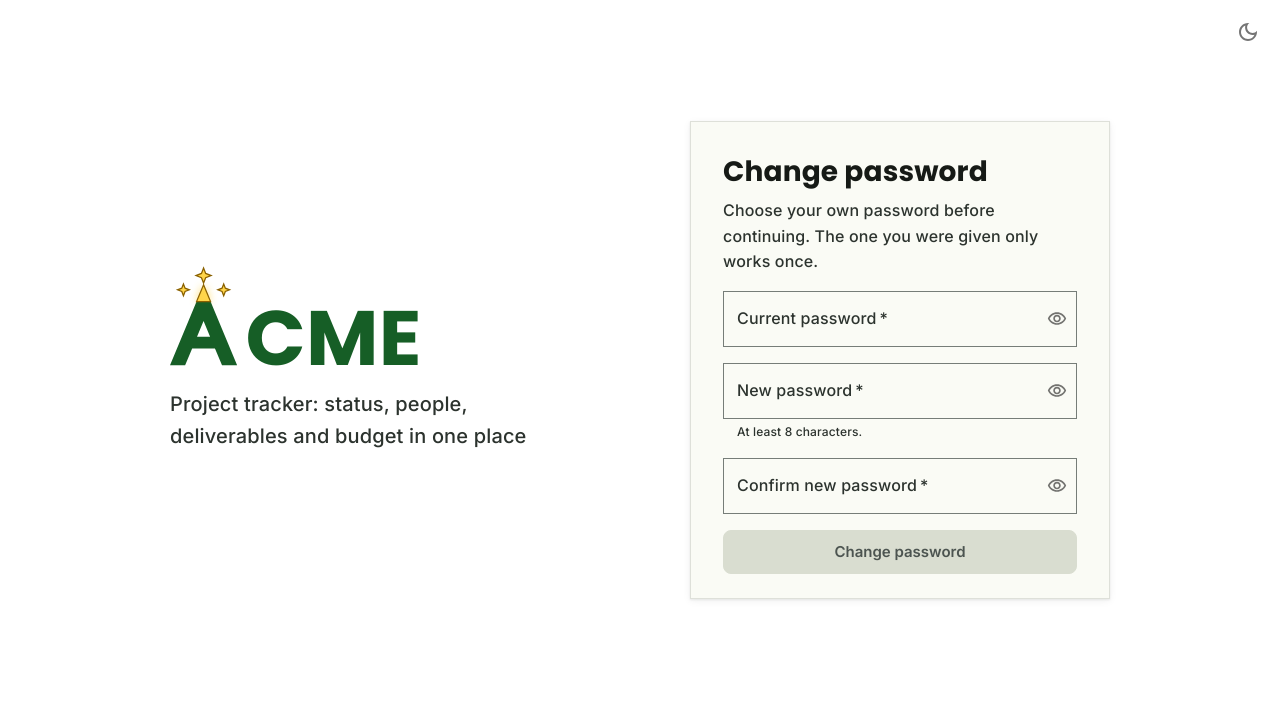
it: ChangePasswordPage › while saving › disables every field and the button, which says it is saving
This screenshot has width=1280, height=720.
In the password field labelled "Current password *": (877, 319) [723,291,1031,347], type "Generated-123"
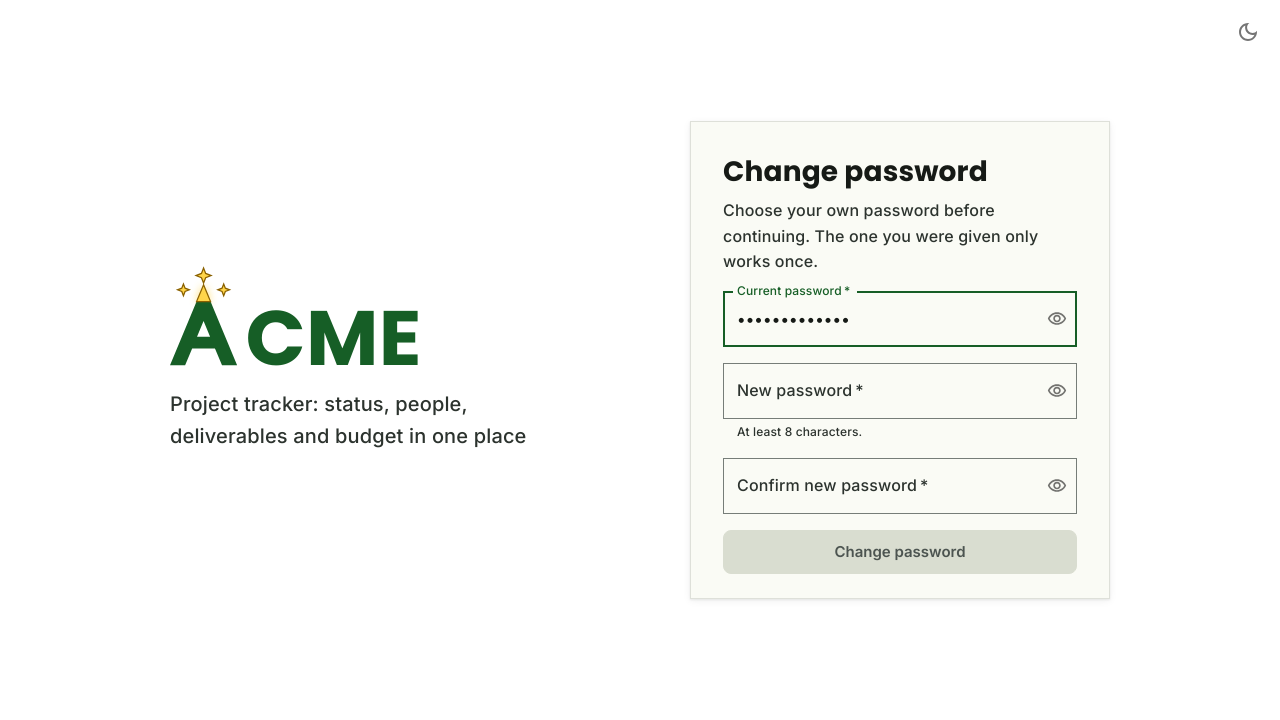
In the password field labelled "New password *": (877, 391) [723,363,1031,419], type "my-new-password"
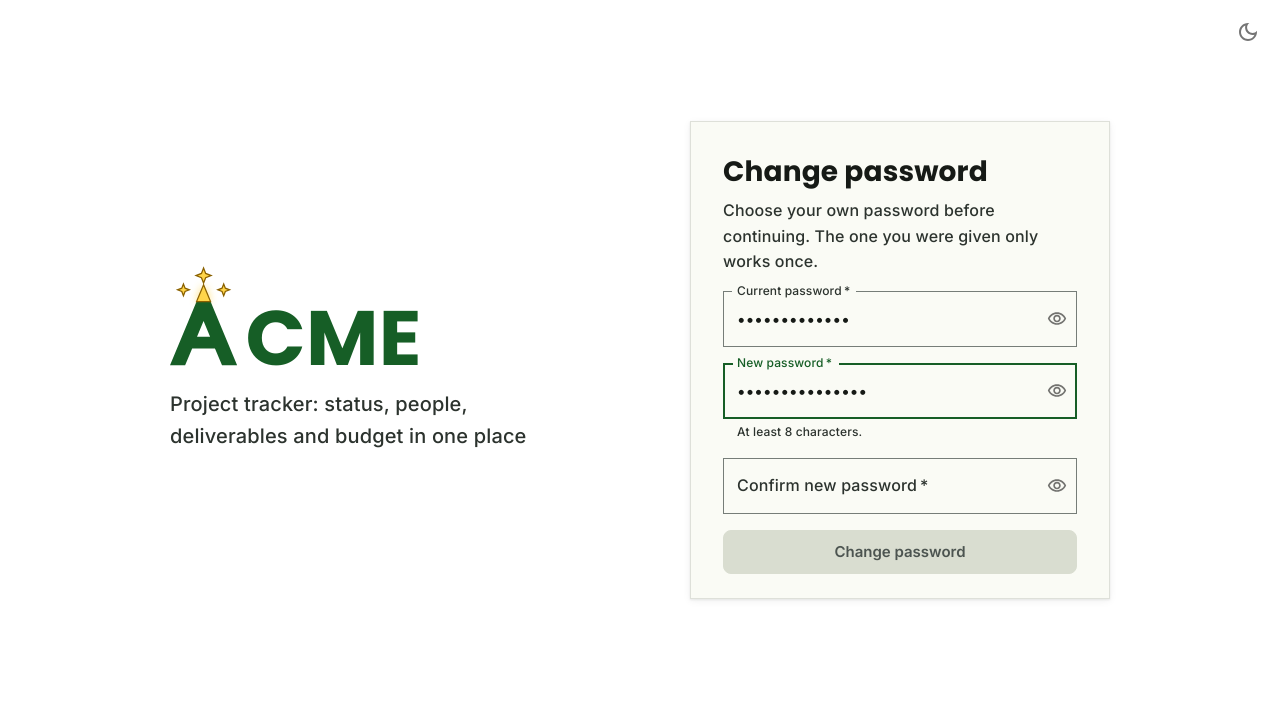
In the password field labelled "Confirm new password *": (877, 486) [723,458,1031,514], type "my-new-password"
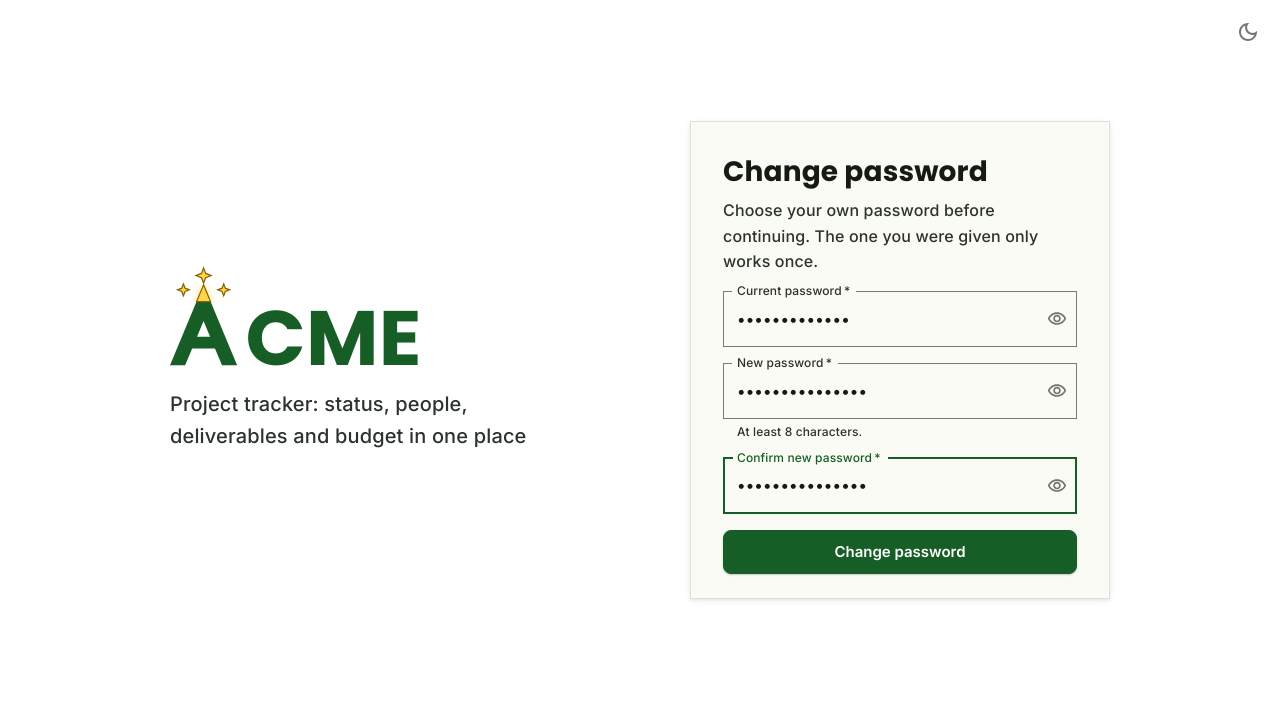
Click the button "Change password": (900, 552) [723,530,1077,574]
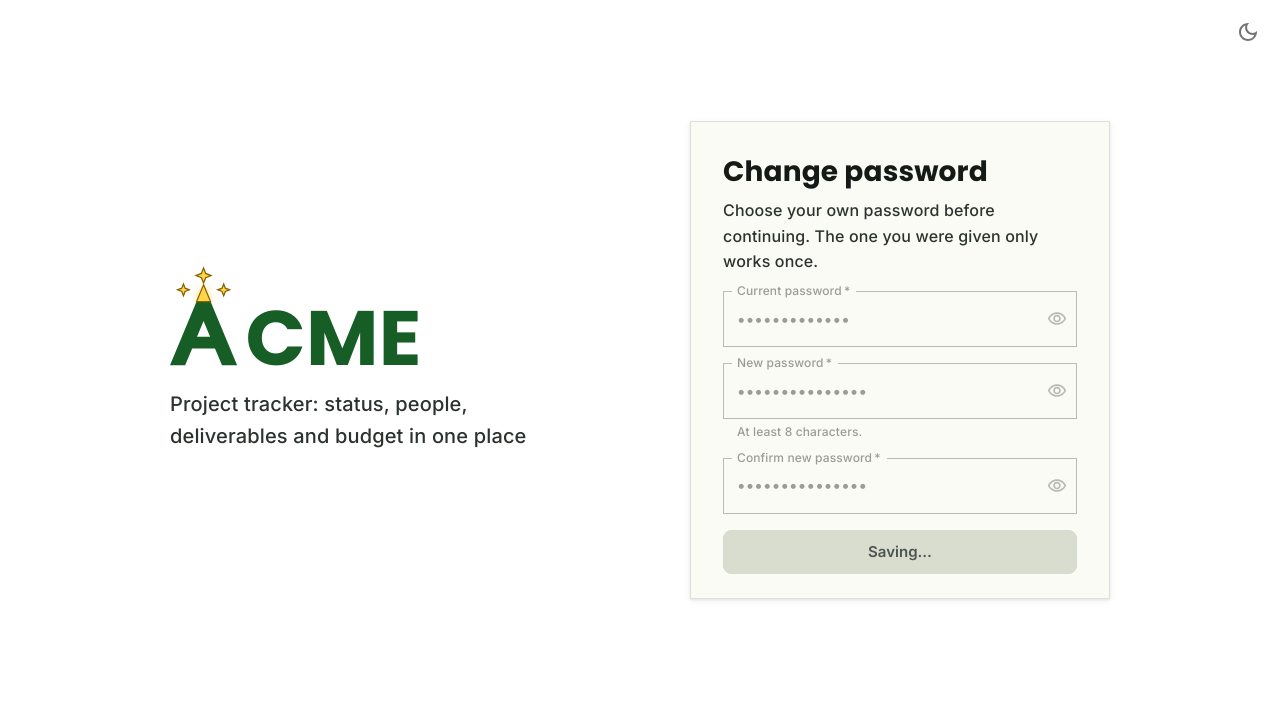
Expected: the button "Saving…" is disabled, [723,530,1077,574]
Expected: the password field labelled "Confirm new password *" is disabled, [723,458,1031,514]
